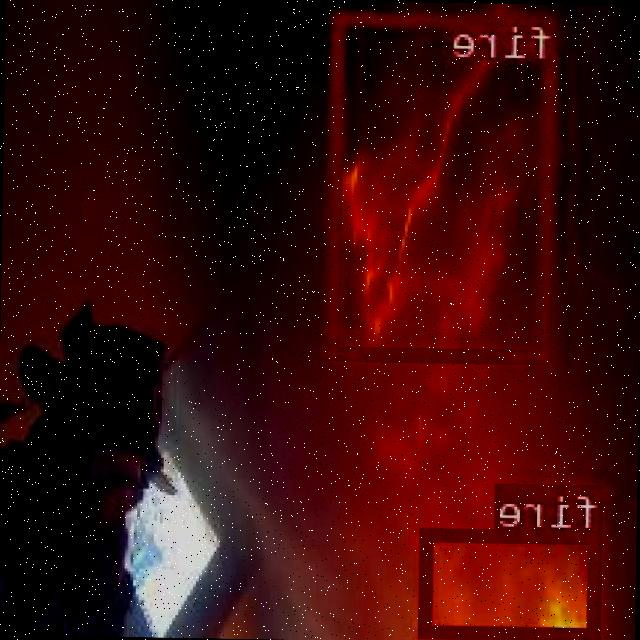fire: (328, 11, 558, 359), (421, 526, 604, 637)
